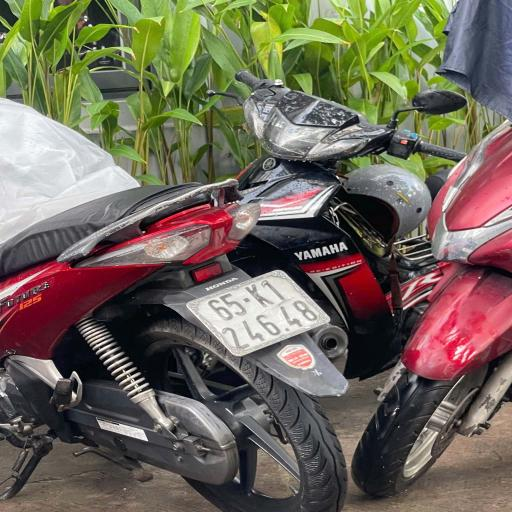1: (262, 273, 292, 304)
2: (220, 322, 249, 363)
4: (280, 304, 307, 337), (240, 319, 266, 346)
5: (217, 290, 251, 316)
6: (253, 310, 283, 344), (204, 298, 238, 326)
8: (291, 296, 328, 326)
K: (238, 281, 274, 311)
